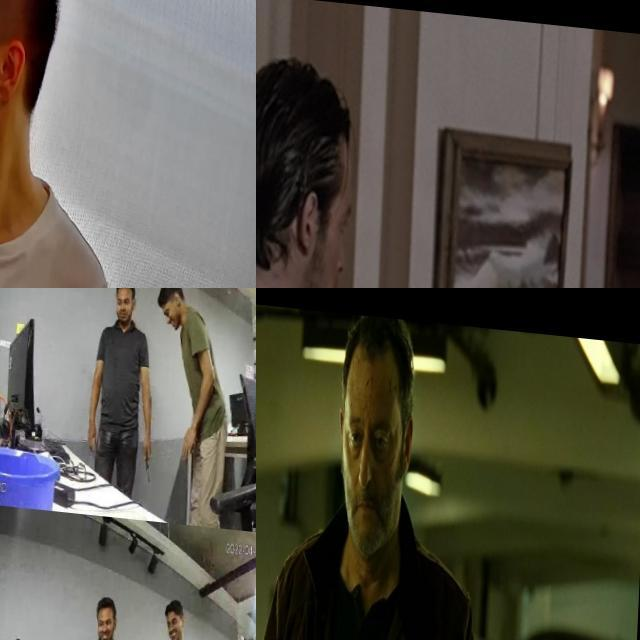-: (143, 438, 155, 472), (0, 430, 12, 452)
gun-knife-thesis - v11 Yolov5 augmented: (0, 0, 40, 134)
